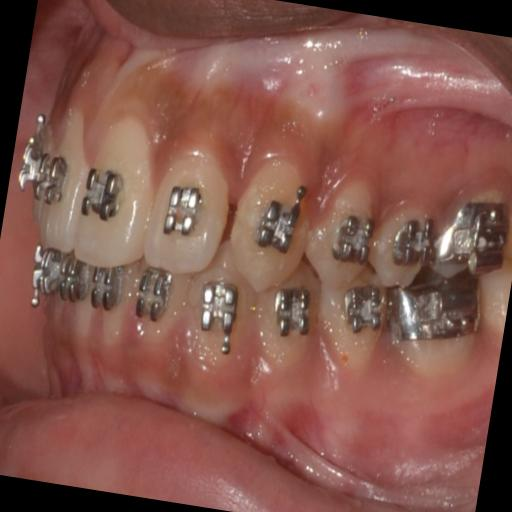correct_brace: (301, 168, 383, 294), (248, 182, 308, 272), (78, 157, 131, 234), (158, 180, 206, 248)
incorrect_brace: (142, 145, 234, 277), (327, 207, 374, 272)
